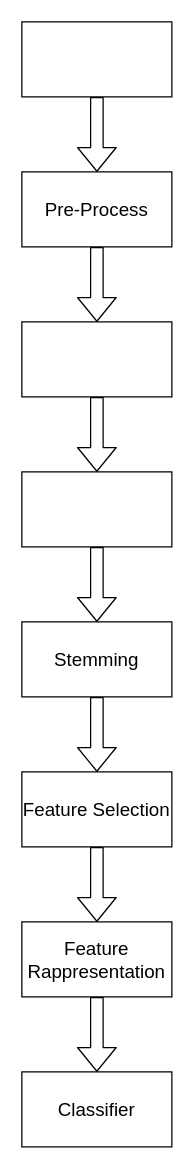
The diagram is 194 pixels wide and 1169 high, and some of its shapes have lost their labels. Each missing label, with the centre of its shape:
"Stop-words Filtering" goes at point 96,509.
"Tokenization" goes at point 96,359.
"Tweet" goes at point 96,59.
